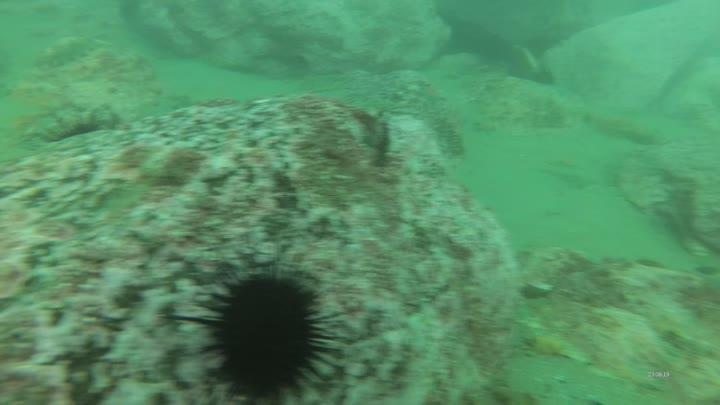urchin: (166, 257, 342, 405)
